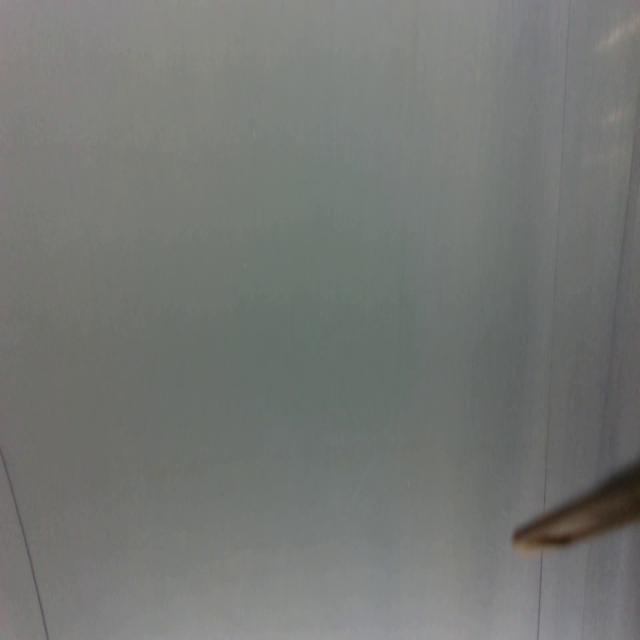crease: (597, 115, 640, 459), (542, 0, 571, 497), (0, 444, 50, 640), (536, 549, 546, 640)
